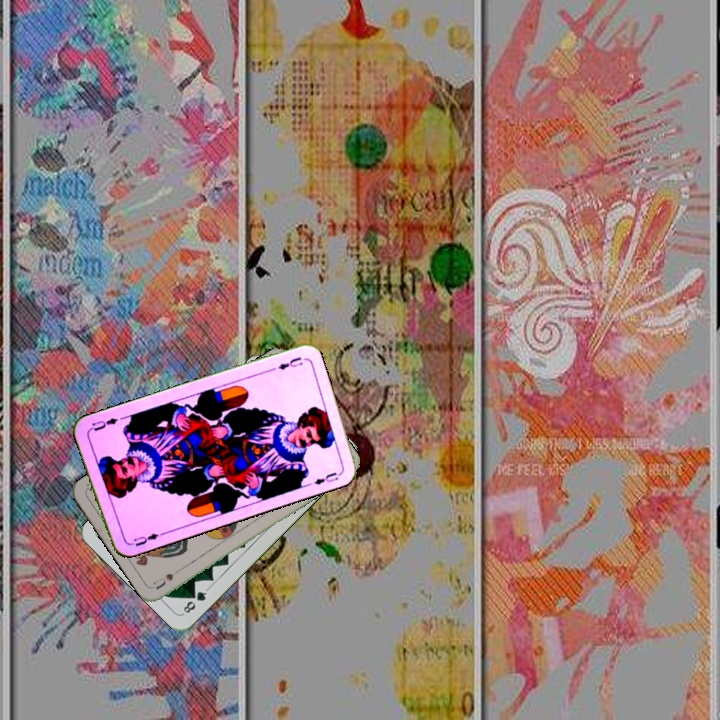EU: (130, 529, 165, 549), (274, 353, 305, 373)
G8: (179, 585, 211, 617)
SU: (150, 562, 187, 592)
